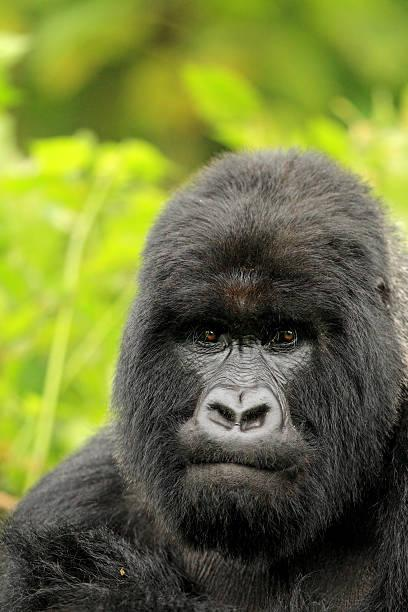goriile_montagne: (10, 139, 408, 612)
